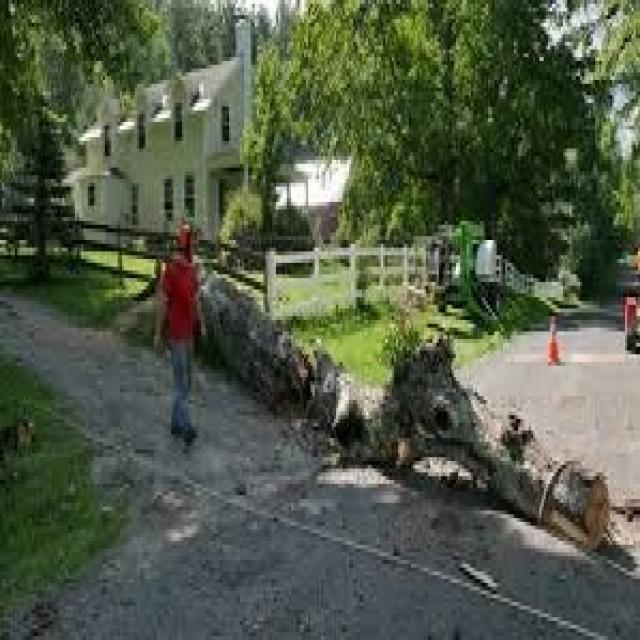fallen_object: (197, 253, 617, 562)
